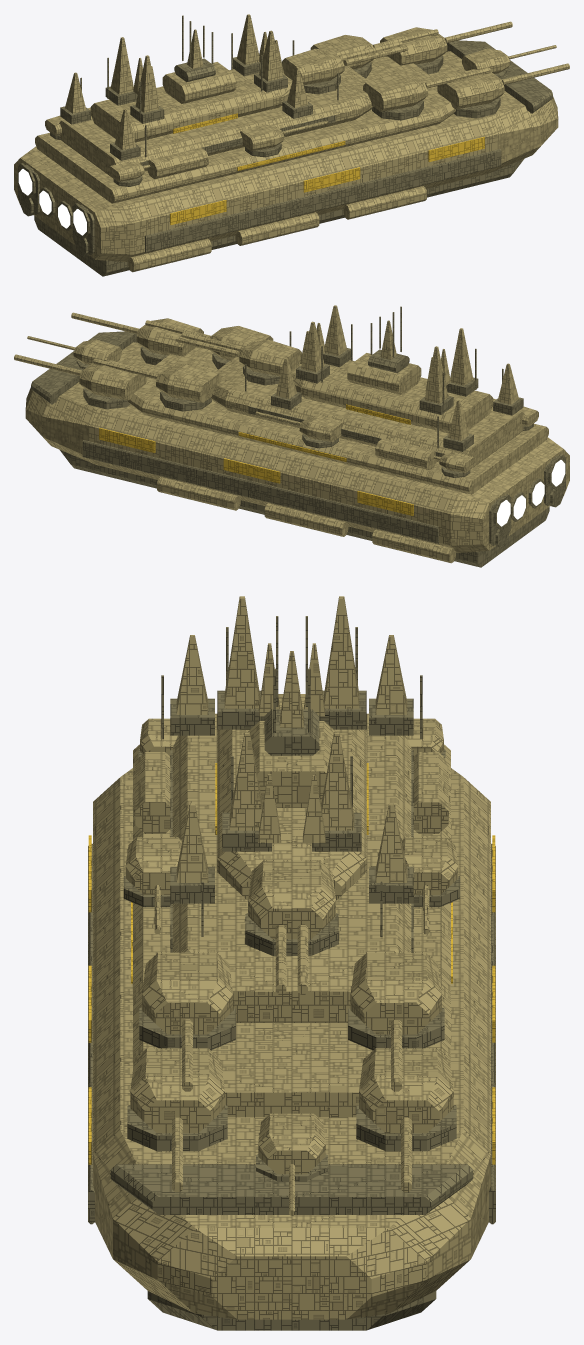
Rendered from artillery_lod1.glb.
3 renders of one model, top to bottom at view 1: azimuth 30°, elevation 25°; view 2: azimuth 150°, elevation 25°; view 3: azimuth 270°, elevation 25°, orthographic. The views are drawn at different scales.
Parts seen in each view (by area): view 1: artillery_lod1_body, artillery_lod1_glow; view 2: artillery_lod1_body, artillery_lod1_glow; view 3: artillery_lod1_body.
Part boxes in pixels (bbox=[...]): artillery_lod1_body: bbox=[14, 14, 569, 276]; artillery_lod1_glow: bbox=[18, 169, 86, 235]; artillery_lod1_body: bbox=[14, 305, 569, 567]; artillery_lod1_glow: bbox=[497, 460, 565, 526]; artillery_lod1_body: bbox=[88, 596, 495, 1330].
Size of the model in its own units: 23.4 by 9.75 by 8.2.
2 materials, 1 textured.
